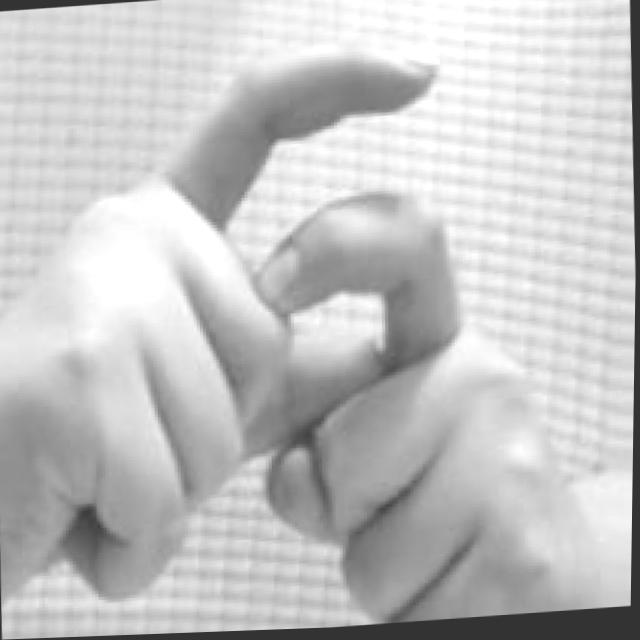G: (0, 15, 639, 640)
